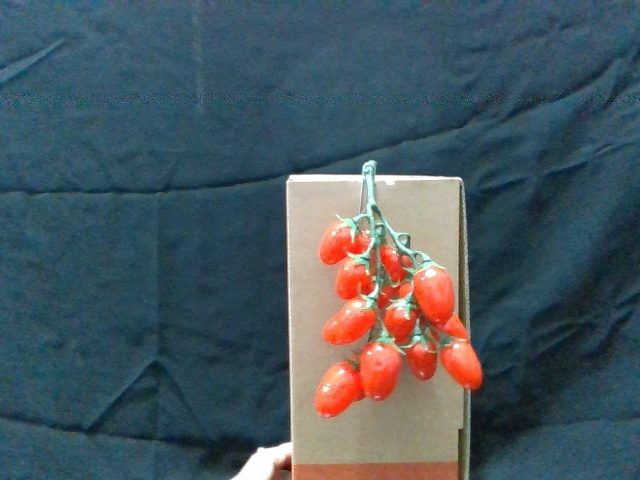tomato: (409, 258, 460, 326), (316, 358, 364, 421), (326, 293, 381, 346), (362, 336, 403, 402), (440, 332, 485, 392), (319, 213, 363, 264), (403, 327, 440, 384), (335, 252, 375, 301), (384, 294, 418, 345)
